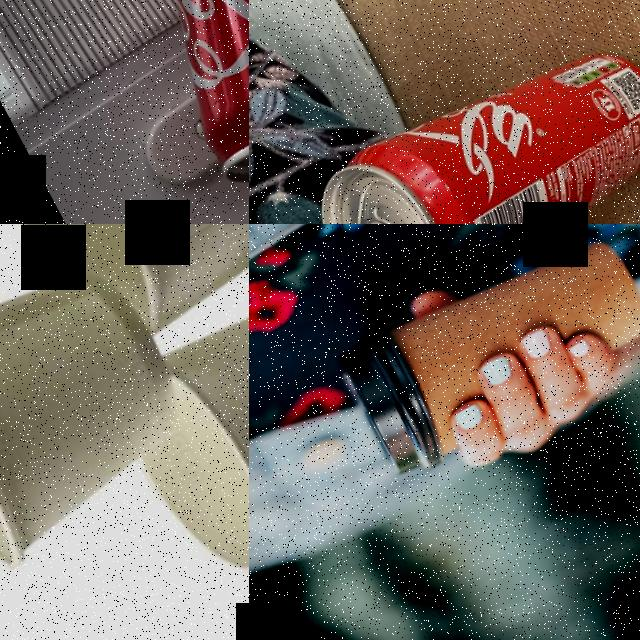can: (289, 6, 640, 224), (31, 0, 249, 218)
cup: (327, 224, 640, 487), (0, 224, 216, 584), (97, 255, 249, 594), (0, 224, 249, 370)
